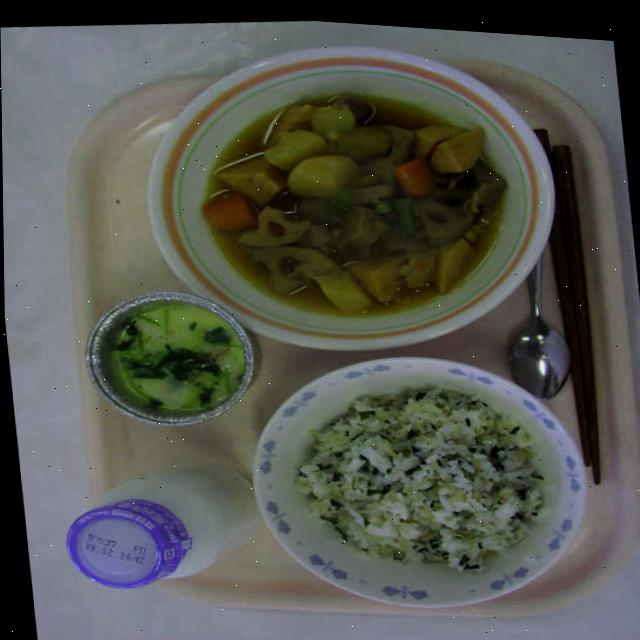鸡蛋料理: (60, 275, 275, 435)
